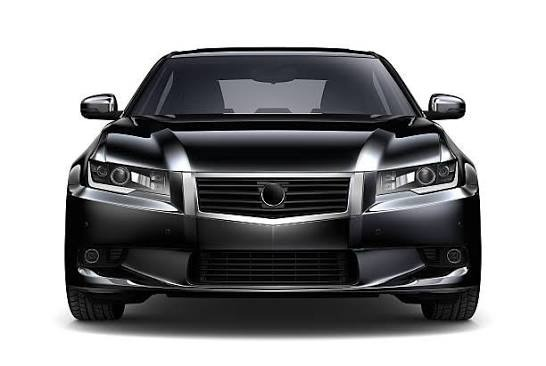car: (62, 56, 469, 312)
